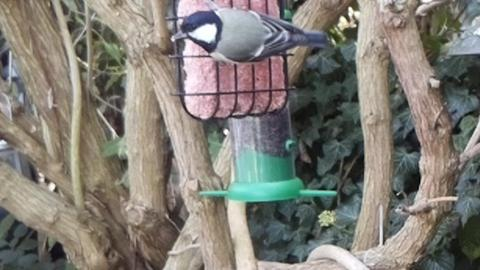great tit: (170, 7, 330, 64)
